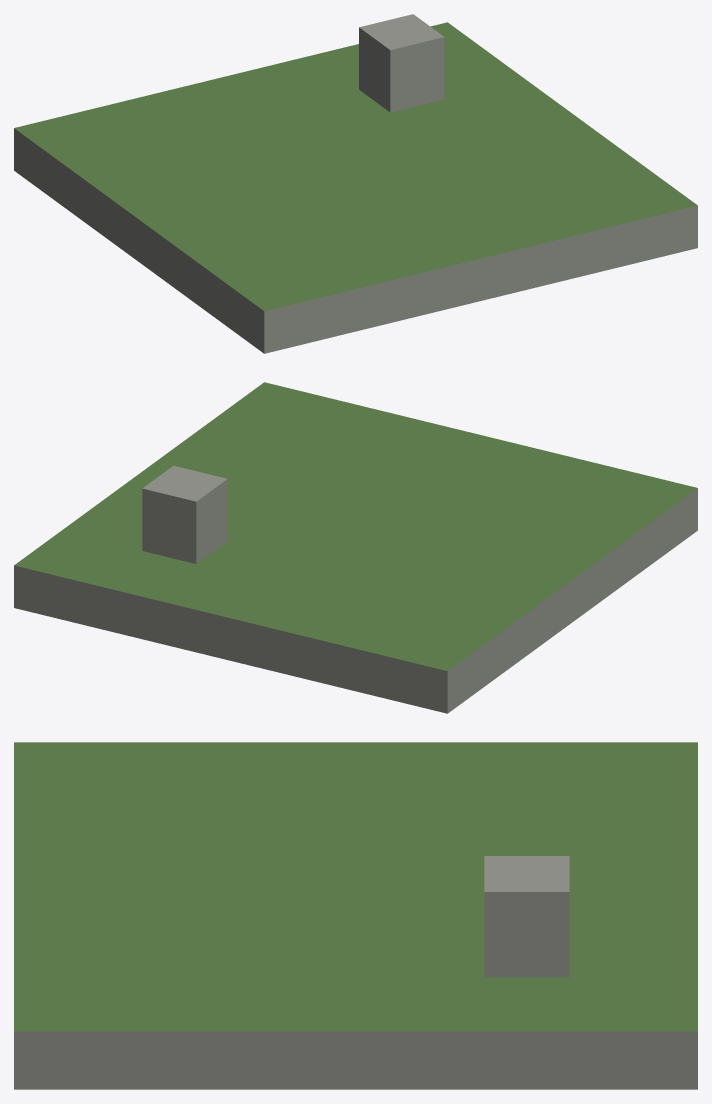
The model's file is site_reservoir_far.fbx.
3 views of the same model, one above another, from view 1: azimuth 30°, elevation 25°; view 2: azimuth 150°, elevation 25°; view 3: azimuth 270°, elevation 25° (orthographic). The views are drawn at different scales.
Visible parts, largest first — view 1: a1063/0/site_reservoir_far; view 2: a1063/0/site_reservoir_far; view 3: a1063/0/site_reservoir_far.
Part boxes in pixels (x1=…): a1063/0/site_reservoir_far: x1=14, y1=14, x2=697, y2=353; a1063/0/site_reservoir_far: x1=14, y1=382, x2=697, y2=713; a1063/0/site_reservoir_far: x1=14, y1=742, x2=697, y2=1089.
Bounding box in the file's own units: 16 × 3.7 × 16.
